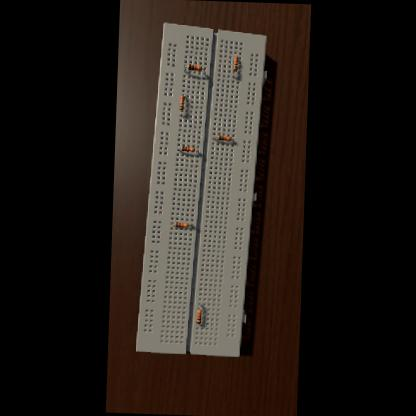breadboard: (136, 21, 268, 356)
resistor: (178, 94, 184, 110), (232, 55, 238, 71), (195, 308, 201, 323), (188, 64, 202, 70), (174, 221, 188, 226), (217, 135, 230, 140), (180, 146, 194, 150)
wire: (184, 65, 188, 71), (194, 149, 198, 152), (202, 68, 204, 74), (233, 70, 234, 78), (181, 109, 182, 115), (214, 136, 217, 138), (172, 222, 174, 224), (178, 148, 180, 150), (189, 224, 192, 225), (232, 138, 233, 140), (182, 94, 184, 94)
